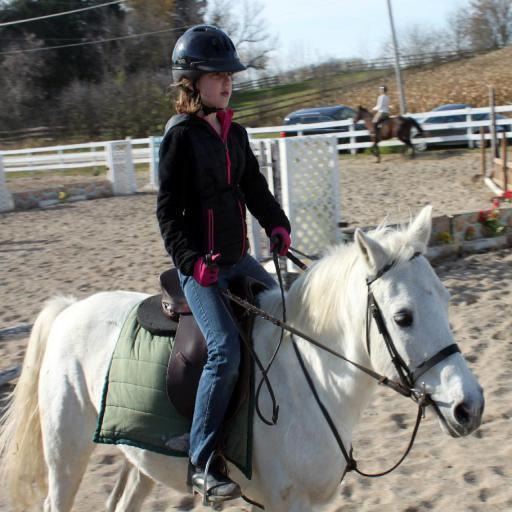horse: (0, 204, 486, 512)
